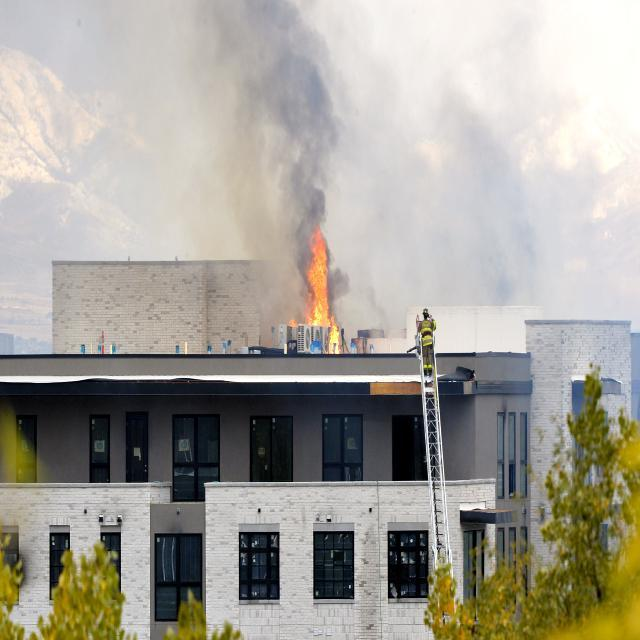Fire: (292, 230, 349, 354)
Smoke: (200, 2, 334, 270)
